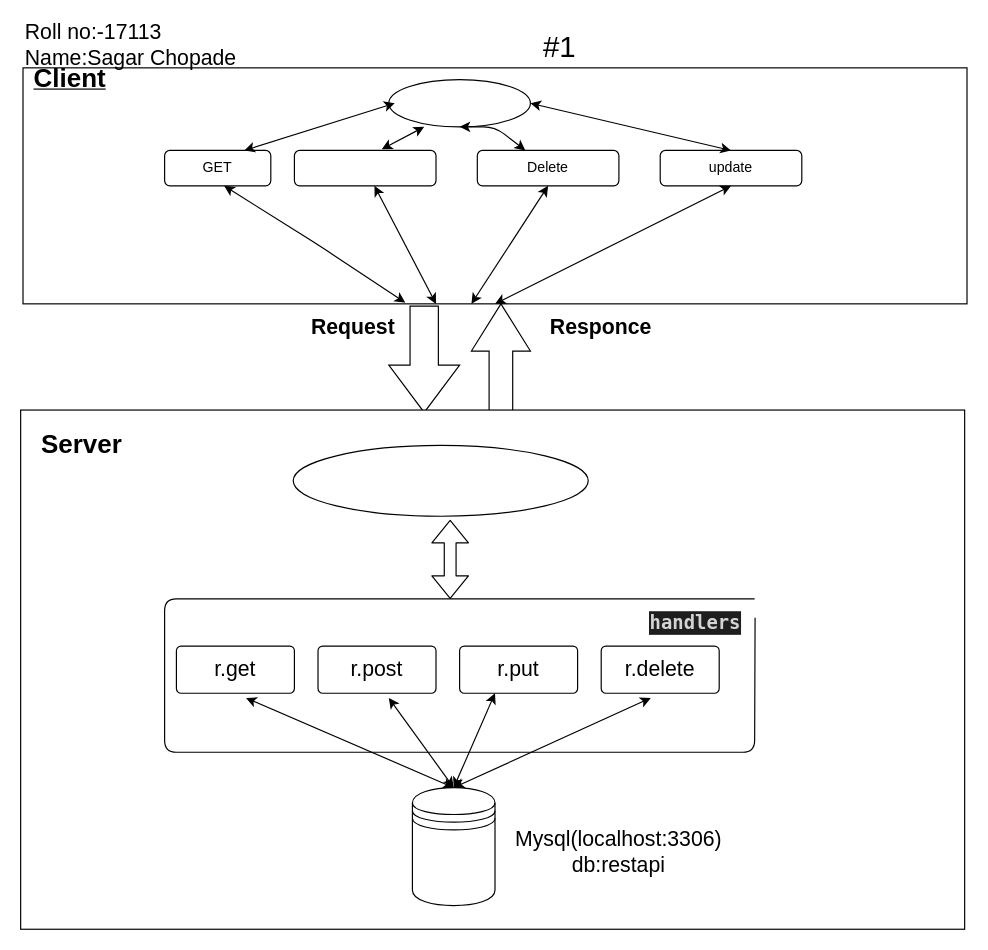
Some shapes in this 988 by 950 pixel diagram are drawn without their labels. The box of each missing label's shape, as (x1, y1, x2, y2) in pixels:
CLI/GUI(browser): (388, 78, 530, 127)
DB: (411, 786, 495, 906)
Go-chi server(0.0.0.0:9090): (292, 444, 588, 516)
PUT: (293, 149, 436, 186)
